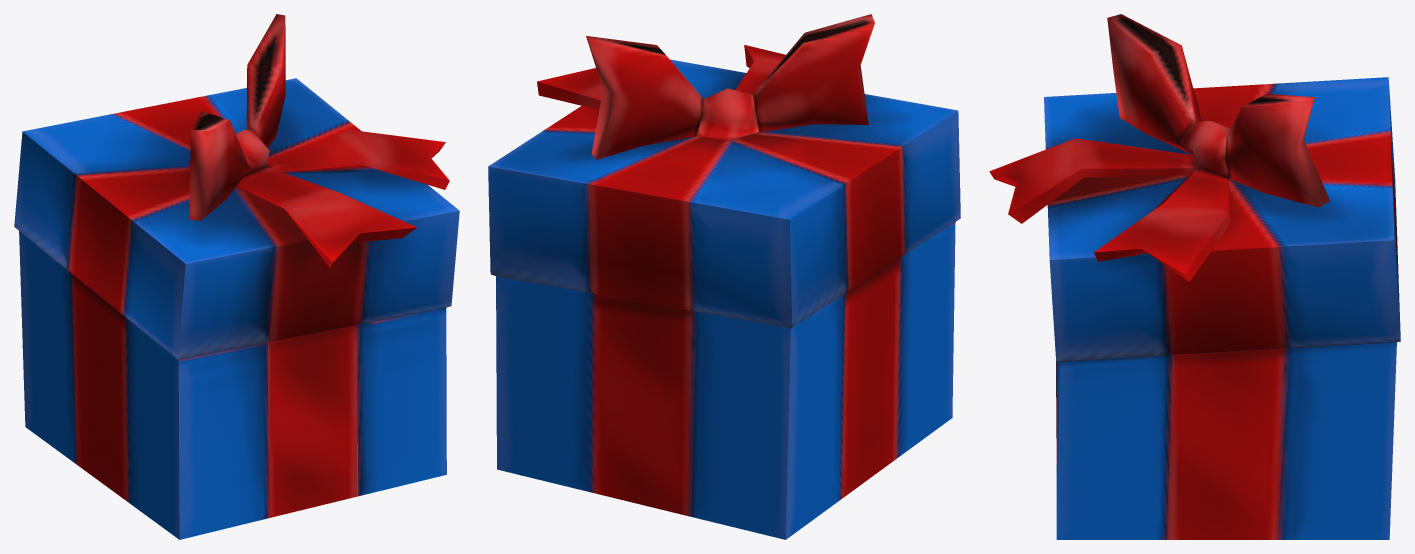
File: event_xmas_gift.glb
The picture shows the model from 3 angles, left to right: view 1: azimuth 30°, elevation 25°; view 2: azimuth 150°, elevation 25°; view 3: azimuth 270°, elevation 25°; orthographic projection. The views are drawn at different scales.
Parts seen in each view (by area): view 1: event_xmas_gift; view 2: event_xmas_gift; view 3: event_xmas_gift.
Boxes of the visible parts, box(x1,y1,x2,y2) form: event_xmas_gift: box(14, 14, 459, 539); event_xmas_gift: box(488, 14, 960, 539); event_xmas_gift: box(989, 14, 1400, 539).
Size of what is drawn, in the model's own units: 1.14 by 1.26 by 1.13.
1 material, 1 textured.
